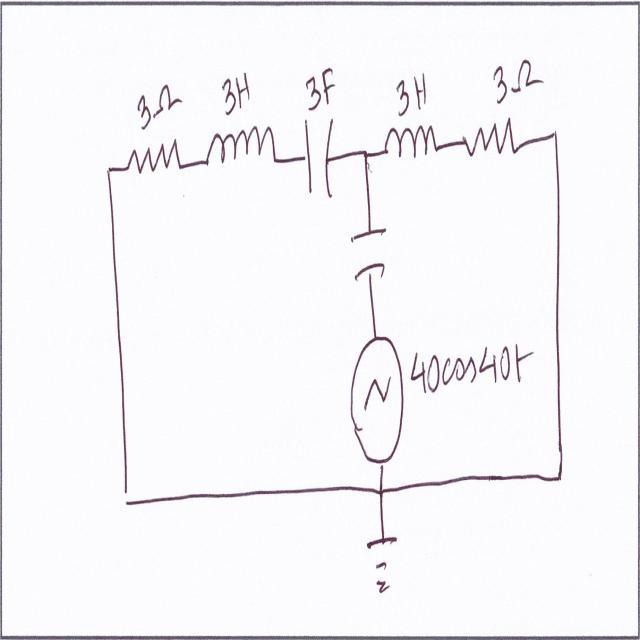capacitor: (304, 110, 334, 212), (350, 220, 392, 285)
current_source: (348, 329, 407, 470)
ground: (364, 523, 402, 602)
inductor: (204, 121, 278, 190), (383, 119, 440, 169)
resistor: (457, 109, 518, 174), (123, 132, 186, 190)
